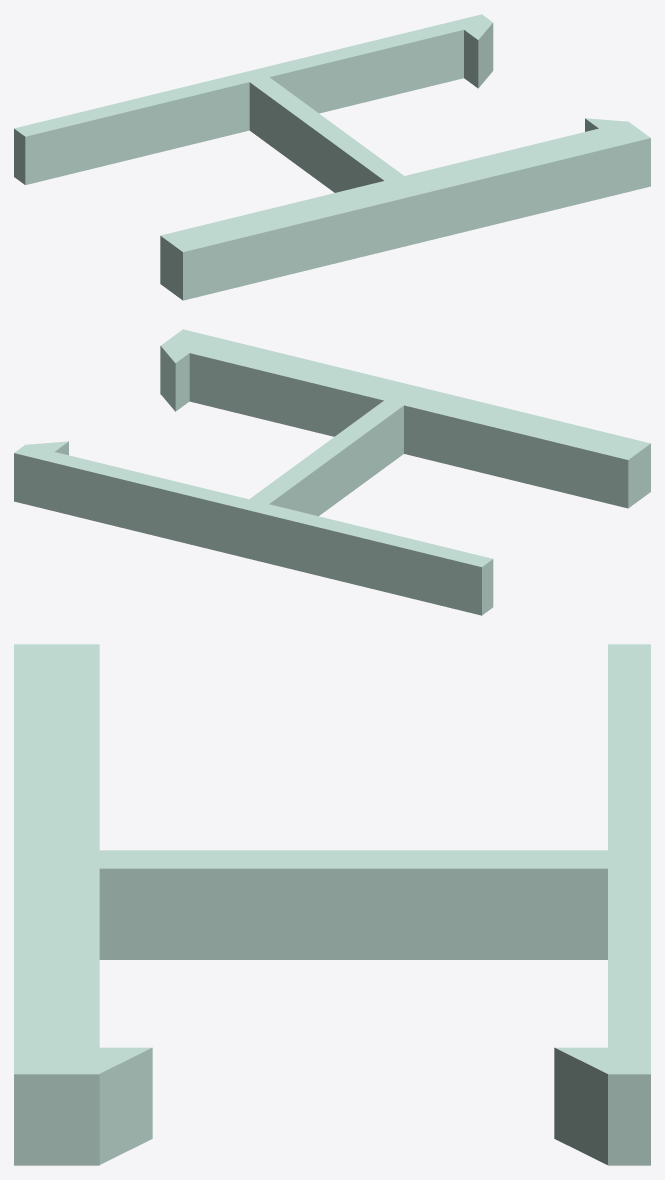
3 renders of one model, top to bottom at view 1: azimuth 30°, elevation 25°; view 2: azimuth 150°, elevation 25°; view 3: azimuth 270°, elevation 25°, orthographic. The views are drawn at different scales.
Visible parts, largest first — view 1: Renderer Node; view 2: Renderer Node; view 3: Renderer Node.
Part boxes in pixels (x1,y1,x2,y2): Renderer Node: (14,14,650,300); Renderer Node: (14,329,650,615); Renderer Node: (14,644,650,1165).
Bounding box in the file's own units: 1.5 × 0.1484 × 0.9388.
